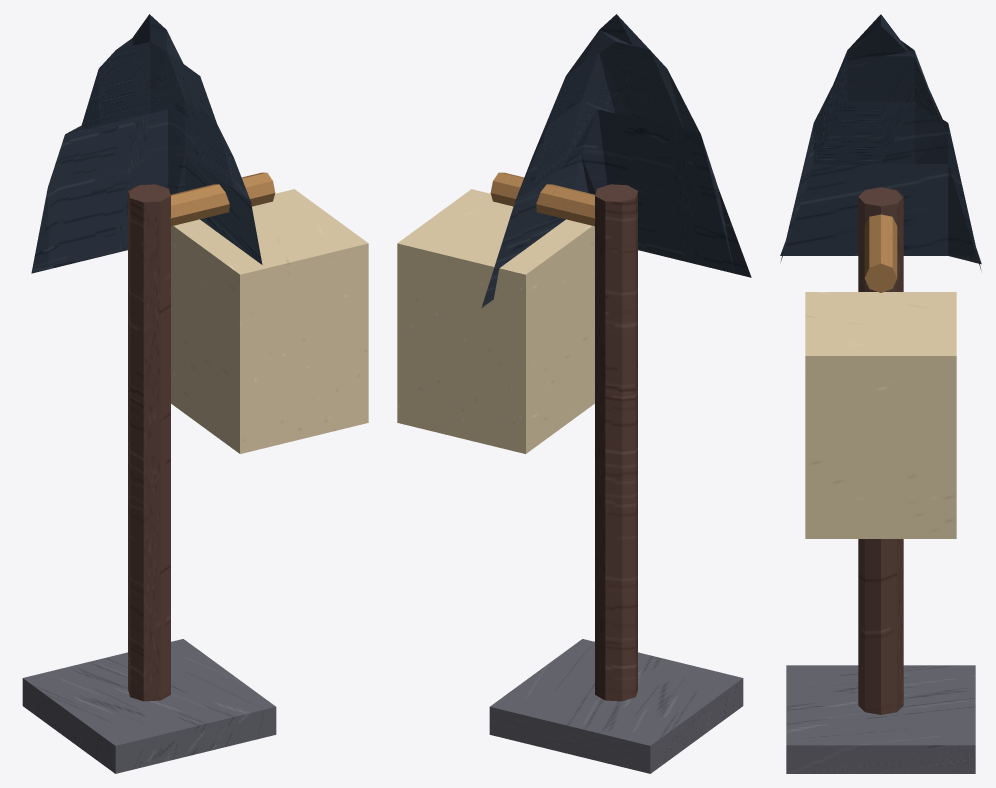
File: shogun_street_lantern_lod1.glb
The picture shows the model from 3 angles, left to right: view 1: azimuth 30°, elevation 25°; view 2: azimuth 150°, elevation 25°; view 3: azimuth 270°, elevation 25°; orthographic projection.
Visible parts, largest first — view 1: shogun_street_lantern_003, shogun_street_lantern_004, shogun_street_lantern_001, shogun_street_lantern_000, shogun_street_lantern_002; view 2: shogun_street_lantern_003, shogun_street_lantern_004, shogun_street_lantern_001, shogun_street_lantern_000, shogun_street_lantern_002; view 3: shogun_street_lantern_003, shogun_street_lantern_004, shogun_street_lantern_000, shogun_street_lantern_001, shogun_street_lantern_002.
Boxes of the visible parts, x1=… form: shogun_street_lantern_003: x1=171, y1=189, x2=368, y2=453; shogun_street_lantern_004: x1=31, y1=14, x2=262, y2=273; shogun_street_lantern_001: x1=128, y1=184, x2=170, y2=701; shogun_street_lantern_000: x1=22, y1=639, x2=276, y2=773; shogun_street_lantern_002: x1=170, y1=172, x2=275, y2=226; shogun_street_lantern_003: x1=397, y1=189, x2=594, y2=453; shogun_street_lantern_004: x1=481, y1=14, x2=751, y2=307; shogun_street_lantern_001: x1=595, y1=184, x2=637, y2=701; shogun_street_lantern_000: x1=489, y1=639, x2=743, y2=773; shogun_street_lantern_002: x1=490, y1=172, x2=595, y2=226; shogun_street_lantern_003: x1=805, y1=292, x2=956, y2=538; shogun_street_lantern_004: x1=780, y1=14, x2=981, y2=270; shogun_street_lantern_000: x1=786, y1=665, x2=975, y2=773; shogun_street_lantern_001: x1=858, y1=187, x2=903, y2=714; shogun_street_lantern_002: x1=864, y1=214, x2=897, y2=292.
Size of the model in its own units: 2.5 by 6.3 by 1.6.
5 materials, 5 textured.
